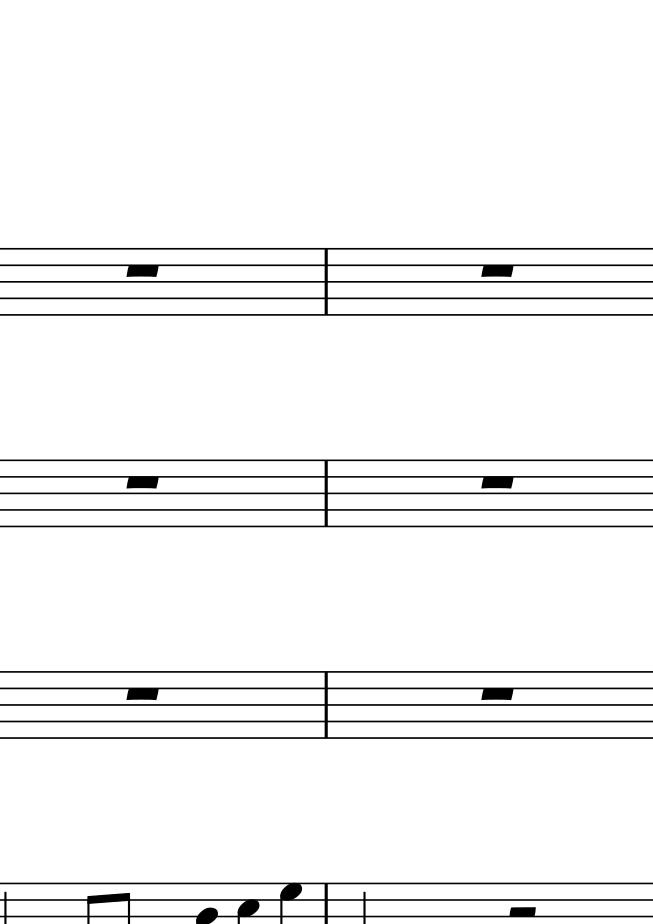Rests1: (123, 260, 164, 281), (478, 260, 518, 281), (122, 685, 164, 702), (480, 682, 514, 702), (122, 473, 166, 488), (478, 473, 517, 487)
Single_barline: (317, 460, 334, 528), (318, 249, 334, 316), (318, 672, 334, 738)
